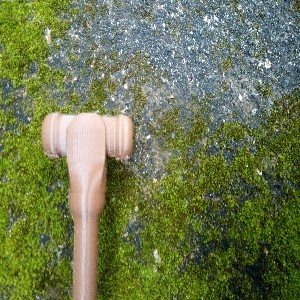palu: (40, 113, 134, 300)
